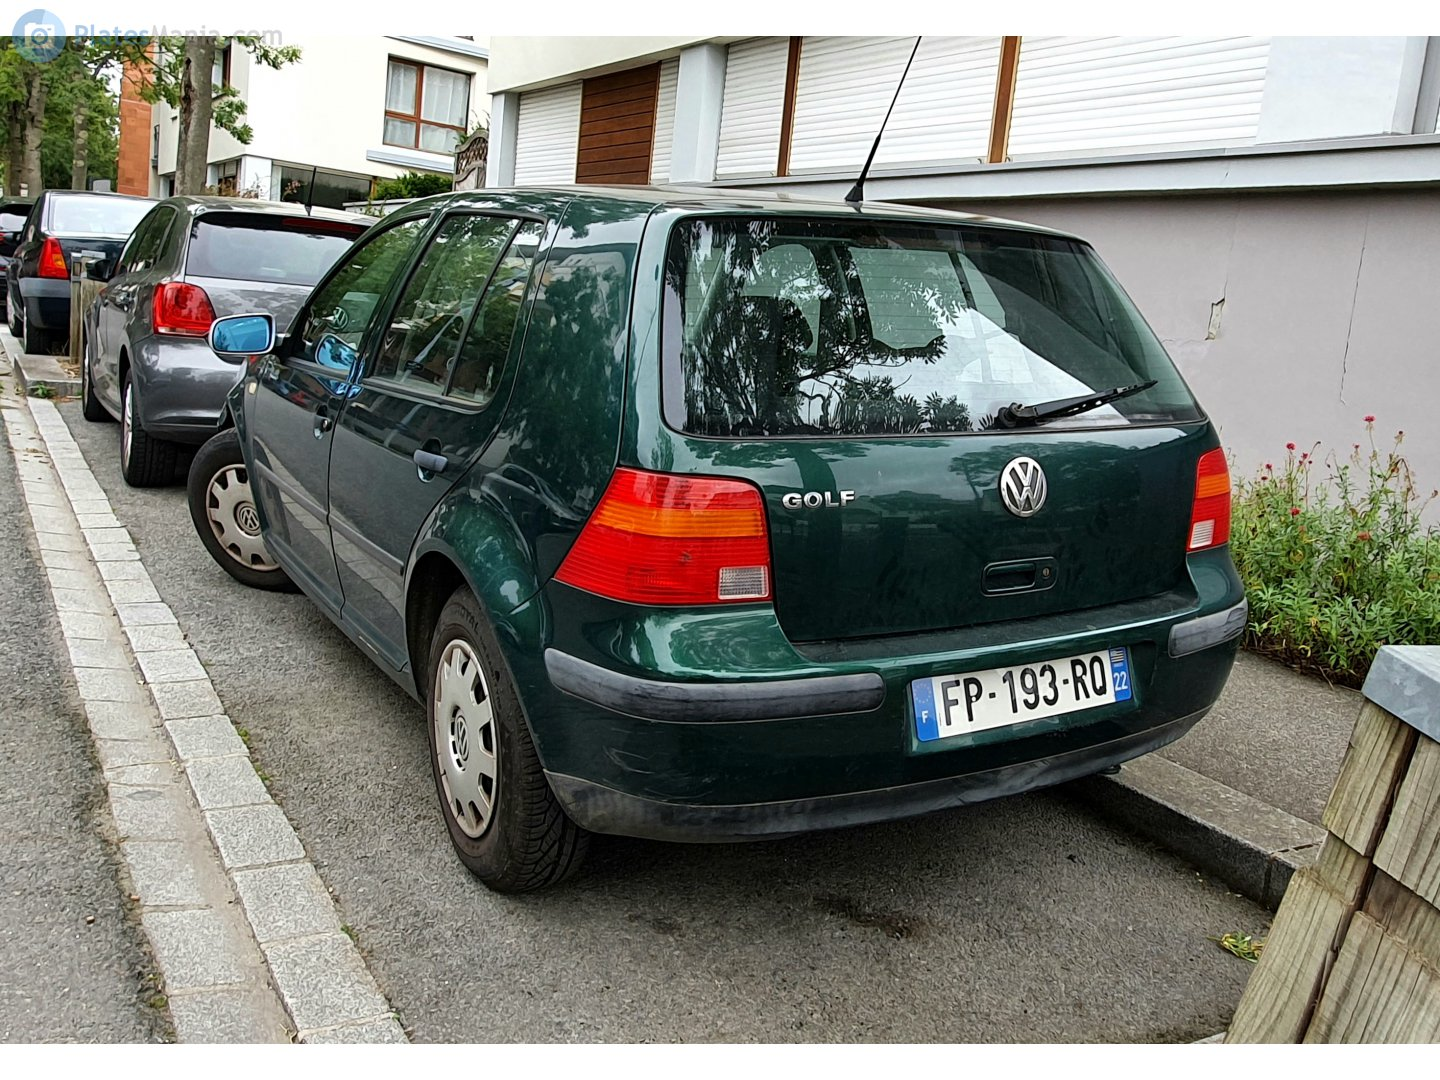licence plate: (907, 636, 1145, 751)
